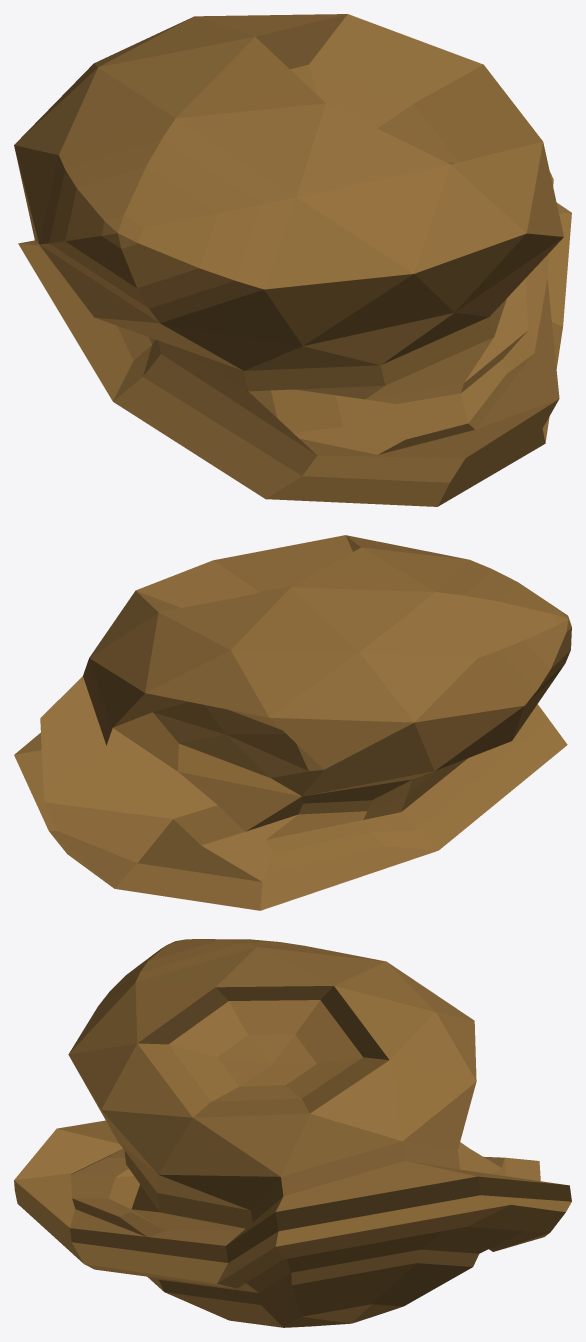
File: asteroid3.fbx
3 views of the same model, one above another, from view 1: azimuth 30°, elevation 25°; view 2: azimuth 150°, elevation 25°; view 3: azimuth 270°, elevation 25° (orthographic). The views are drawn at different scales.
Parts seen in each view (by area): view 1: Icosphere; view 2: Icosphere; view 3: Icosphere.
Part boxes in pixels (x1,y1,x2,y2): Icosphere: (14, 14, 571, 506); Icosphere: (14, 535, 571, 910); Icosphere: (14, 939, 571, 1327).
Size of the model in its own units: 1253 by 900 by 1515.
